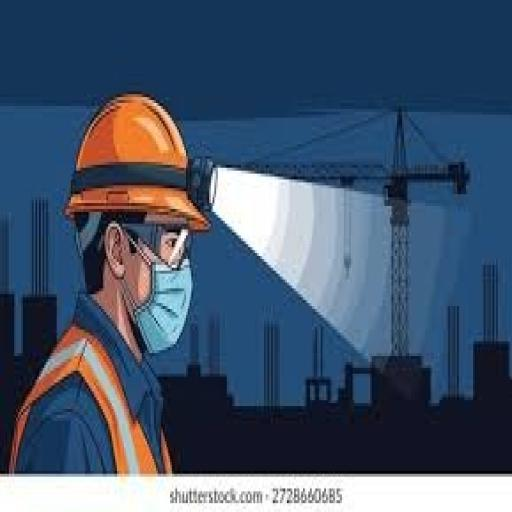mask: (130, 249, 193, 352)
